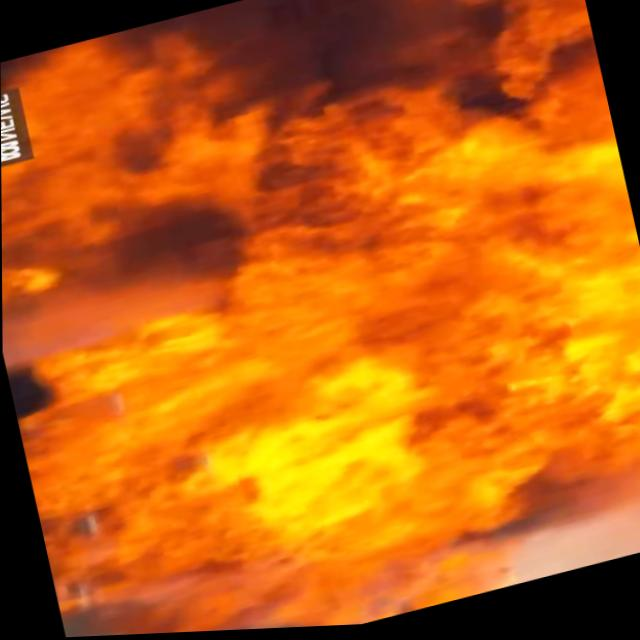Fire: (14, 0, 627, 335), (14, 307, 475, 640), (1, 103, 361, 401), (350, 196, 640, 565)
